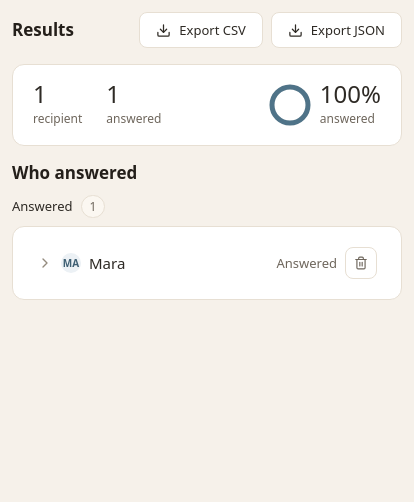
Test: QuestionnaireResults › shows the raw answers for a Standard, submitted send
What coordinates should you click on to do the following:
click the button with aria-label "Expand "
I would click on:
 (153, 263)
Its box is 37,253 -> 268,273.
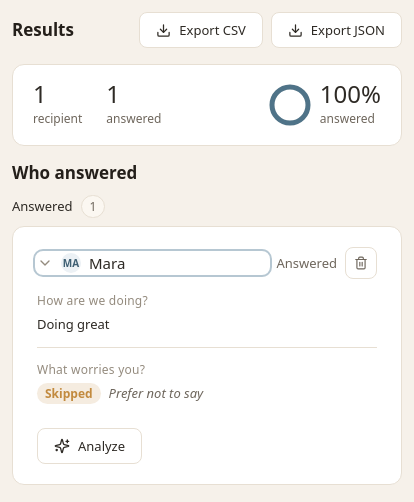
Now the text "How are we doing?" is shown, box 37,292 -> 148,309
Now the text "Doing great" is shown, box 37,315 -> 110,333
Now the text "Skipped" is shown, box 37,383 -> 101,404
